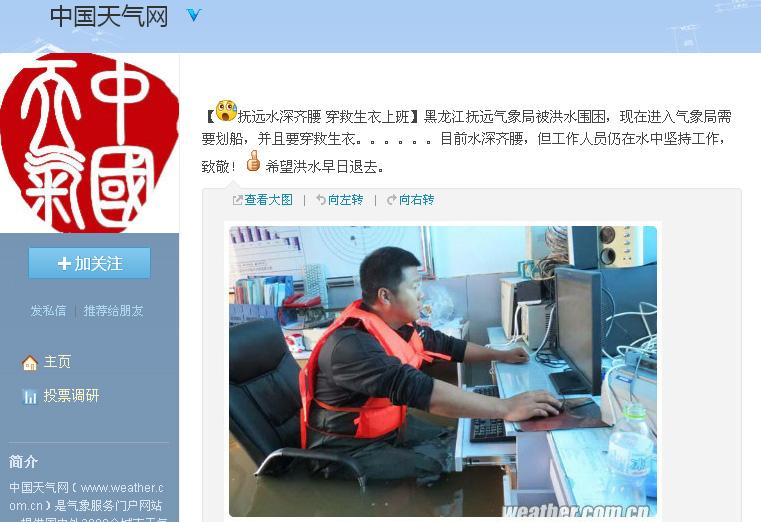reflective_clothes: (291, 297, 427, 463)
